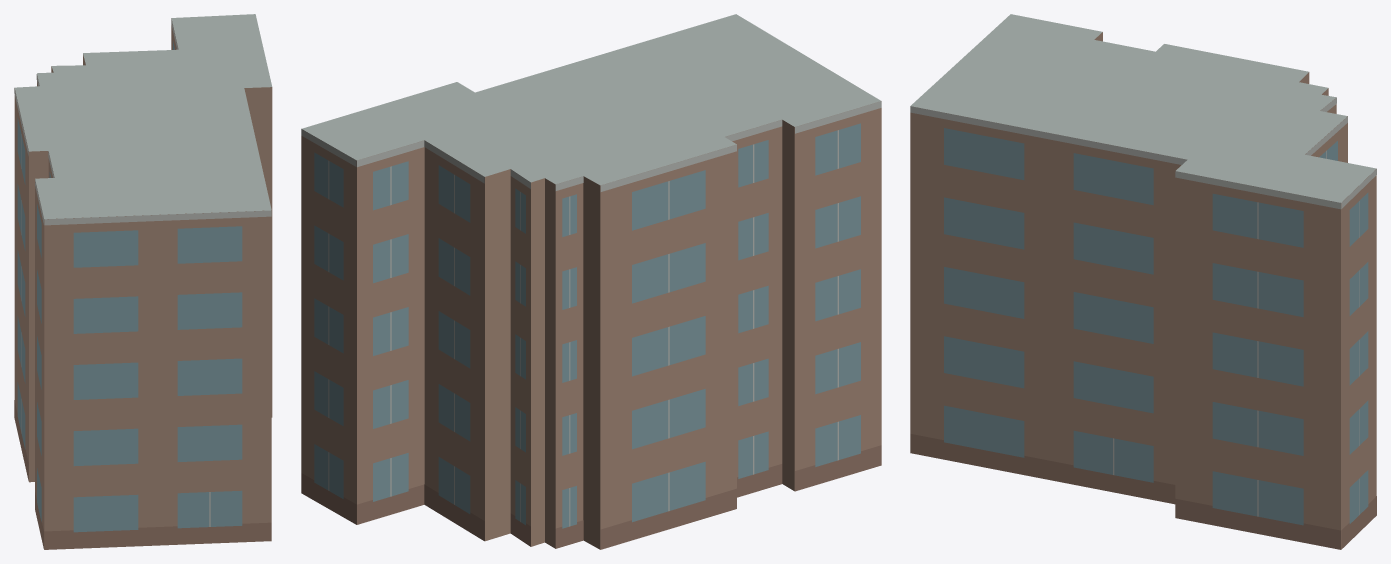
Rendered from survey-upis-33000444.glb.
The picture shows the model from 3 angles, left to right: view 1: azimuth 30°, elevation 25°; view 2: azimuth 150°, elevation 25°; view 3: azimuth 270°, elevation 25°; orthographic projection. The views are drawn at different scales.
Parts seen in each view (by area): view 1: survey-upis-33000444.tmp; view 2: survey-upis-33000444.tmp; view 3: survey-upis-33000444.tmp.
Boxes of the visible parts, left/top/right/bottom form: survey-upis-33000444.tmp: left=14, top=14, right=272, bottom=549; survey-upis-33000444.tmp: left=301, top=14, right=881, bottom=549; survey-upis-33000444.tmp: left=910, top=14, right=1376, bottom=549.
Bounding box in the file's own units: 15.25 × 13.05 × 15.91.
